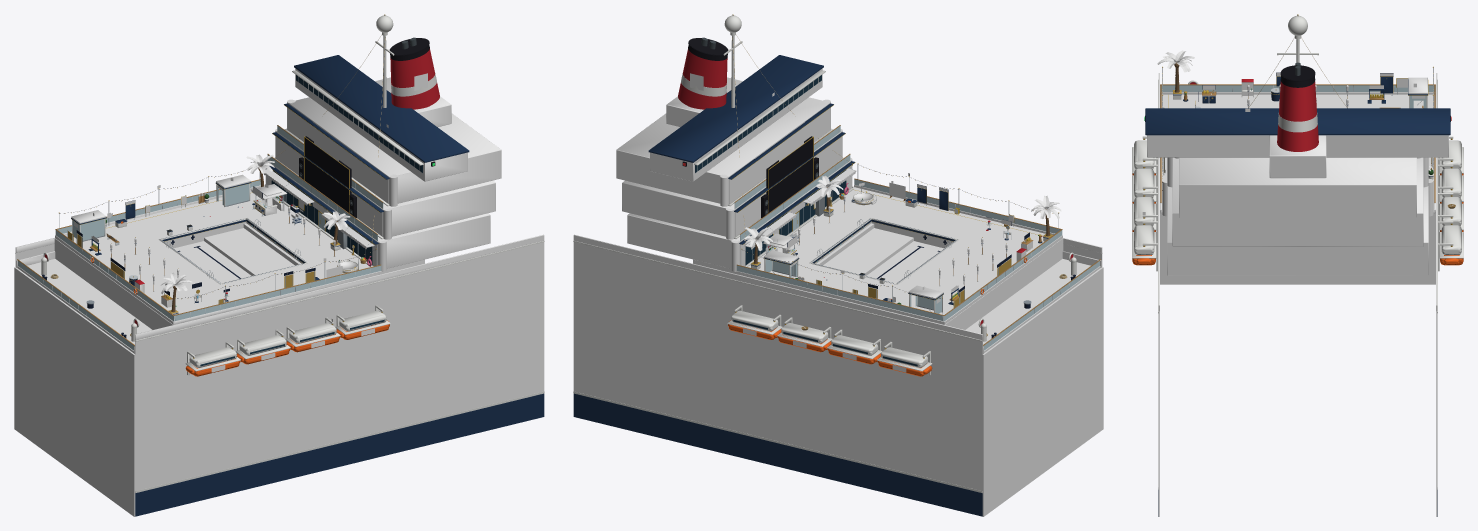
The model's file is cruise.glb.
3 renders of one model, left to right at view 1: azimuth 30°, elevation 25°; view 2: azimuth 150°, elevation 25°; view 3: azimuth 270°, elevation 25°, orthographic. The views are drawn at different scales.
Parts seen in each view (by area): view 1: S_tile_hullside, S_tile_paint, S_satin, S_tile_teak, S_satin_n, S_glass, S_tile_facade, S_tile_mosaic, S_metal, S_cut, S_signs, S_tile_canvas (+1 smaller); view 2: S_tile_hullside, S_tile_paint, S_satin, S_tile_teak, S_satin_n, S_glass, S_tile_facade, S_tile_mosaic, S_metal, S_cut, S_signs, S_tile_canvas (+1 smaller); view 3: S_tile_paint, S_satin, S_tile_teak, S_glass, S_tile_hullside, S_tile_nonskid, S_metal, S_cut, S_satin_n, S_signs.
Boxes of the visible parts, left/top/right/bottom form: S_tile_hullside: left=15, top=240, right=544, bottom=490; S_tile_paint: left=14, top=68, right=544, bottom=516; S_satin: left=15, top=15, right=544, bottom=376; S_tile_teak: left=17, top=192, right=370, bottom=353; S_satin_n: left=59, top=171, right=544, bottom=516; S_glass: left=18, top=75, right=422, bottom=350; S_tile_facade: left=54, top=108, right=388, bottom=329; S_tile_mosaic: left=162, top=219, right=303, bottom=283; S_metal: left=17, top=105, right=385, bottom=366; S_cut: left=93, top=124, right=388, bottom=321; S_signs: left=74, top=73, right=427, bottom=372; S_tile_canvas: left=110, top=169, right=374, bottom=284; S_tile_hullside: left=573, top=240, right=1102, bottom=490; S_tile_paint: left=573, top=68, right=1103, bottom=516; S_satin: left=573, top=15, right=1102, bottom=376; S_tile_teak: left=747, top=190, right=1100, bottom=353; S_satin_n: left=573, top=171, right=1058, bottom=516; S_glass: left=695, top=75, right=1099, bottom=350; S_tile_facade: left=729, top=108, right=1063, bottom=329; S_tile_mosaic: left=814, top=219, right=953, bottom=283; S_metal: left=732, top=105, right=1095, bottom=366; S_cut: left=744, top=92, right=1061, bottom=301; S_signs: left=690, top=73, right=1013, bottom=372; S_tile_canvas: left=743, top=168, right=1007, bottom=284; S_tile_paint: left=1147, top=73, right=1448, bottom=311; S_satin: left=1132, top=16, right=1463, bottom=313; S_tile_teak: left=1168, top=94, right=1423, bottom=108; S_glass: left=1160, top=85, right=1435, bottom=108; S_tile_hullside: left=1158, top=311, right=1437, bottom=516; S_tile_nonskid: left=1161, top=94, right=1434, bottom=212; S_metal: left=1143, top=66, right=1452, bottom=246; S_cut: left=1142, top=50, right=1431, bottom=215; S_satin_n: left=1158, top=91, right=1437, bottom=516; S_signs: left=1203, top=73, right=1425, bottom=98.
Bounding box in the file's own units: 65.8 × 58.74 × 39.6.
